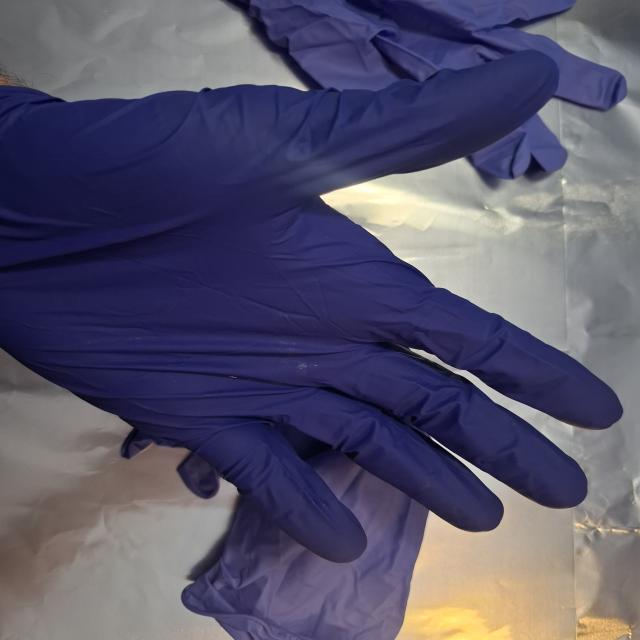glove_on: (0, 44, 629, 568)
